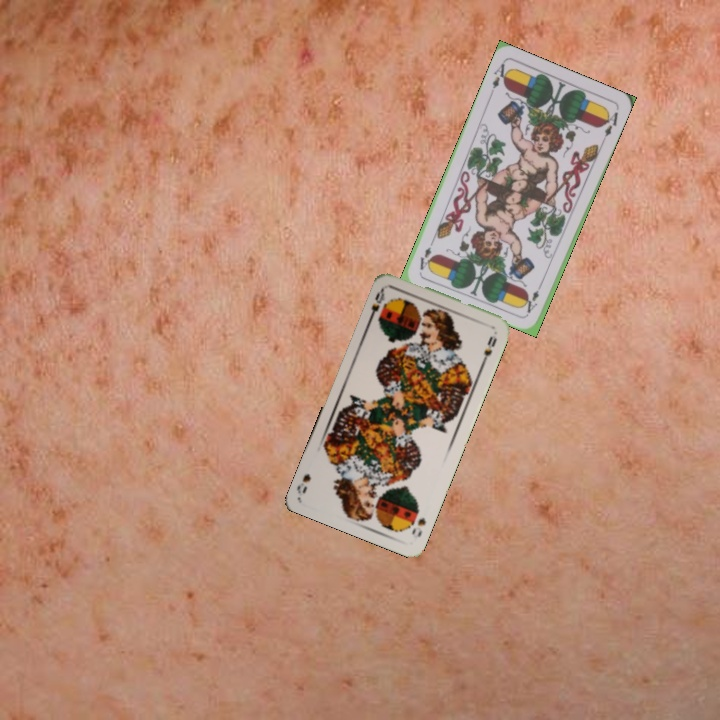EA: (486, 58, 512, 97), (523, 278, 545, 315)
SO: (365, 283, 387, 322), (407, 514, 428, 540)
